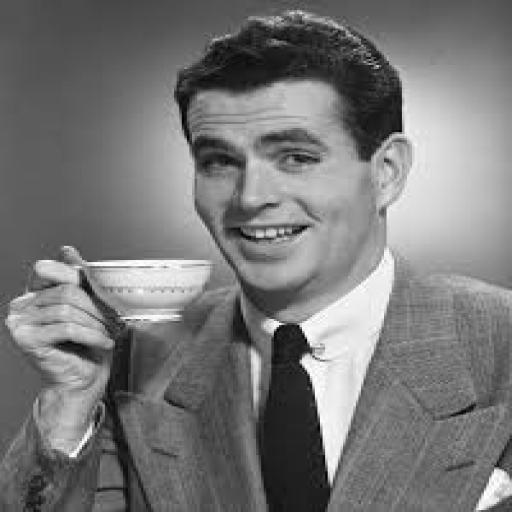drinking: (0, 6, 509, 510)
